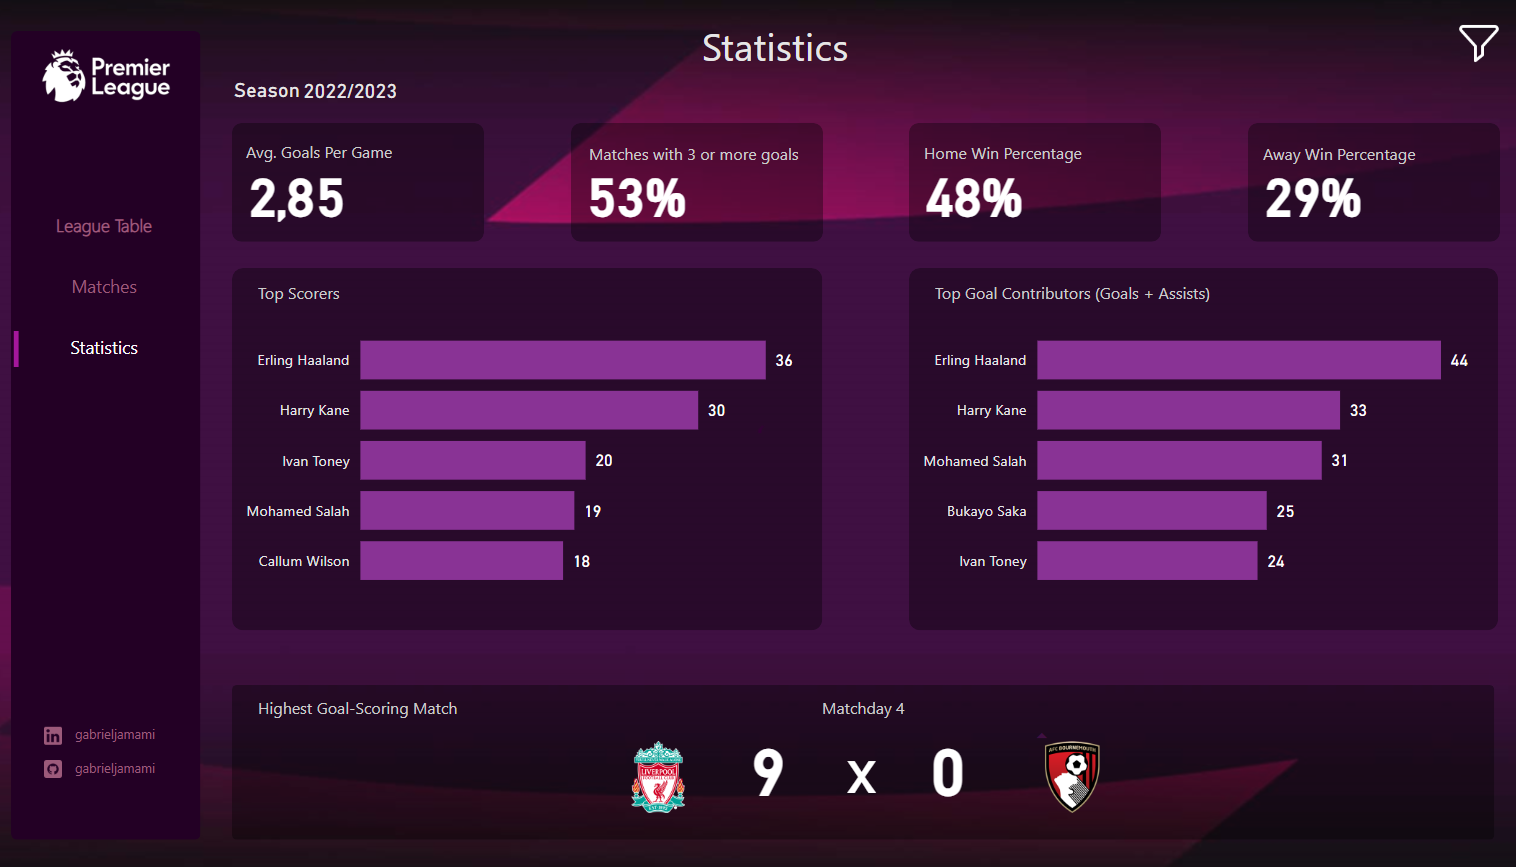

This screenshot's page, from the dashboard's own definition file:
{"tool":"powerbi","page":{"name":"Statistics","canvas":[1280,720],"ordinal":2},"visuals":[{"type":"shape","title":"Menu","box":[16,23,158,674],"z":0,"group":"g2"},{"type":"card","title":"Season","fields":{"Values":["Min(d_seasons.season_name)"]},"box":[243,55.3,112.4,37.2],"z":0,"group":"g1"},{"type":"shape","title":"Square Table","box":[200,99.6,210,99],"z":0,"group":"g6"},{"type":"shape","title":"Square Table","box":[482.1,99.6,210,99],"z":0,"group":"g9"},{"type":"shape","title":"Square Table","box":[764.2,99.6,210,99],"z":0,"group":"g7"},{"type":"shape","title":"Square Table","box":[1046.3,99.6,210,99],"z":0,"group":"g8"},{"type":"textbox","box":[10.9,169.6,165,30.8],"z":0,"group":"g5"},{"type":"textbox","box":[10.9,220.9,165,30.8],"z":0,"group":"g4"},{"type":"shape","title":"Square Table","box":[200,221,492,302],"z":0,"group":"g10"},{"type":"shape","title":"Square Table","box":[764,221,491,302],"z":0,"group":"g11"},{"type":"textbox","title":"Page 3","box":[10.9,272,165,30.8],"z":0,"group":"g3"},{"type":"shape","title":"Square Table","box":[200,568,1052,129],"z":0},{"type":"textbox","box":[63.8,594.5,103.6,31.8],"z":0,"group":"g12"},{"type":"textbox","box":[63.7,622.9,103.6,31.8],"z":0,"group":"g13"},{"type":"image","title":"Filter Img","box":[1211.5,8.2,54.4,49],"z":1000},{"type":"image","box":[25,28,140,64],"z":1000,"group":"g2"},{"type":"textbox","box":[187.7,58,83.4,37.2],"z":1000,"group":"g1"},{"type":"card","fields":{"Values":["_medidas.Media_Gols_Por_Jogo"]},"box":[161,110.6,187,94],"z":1000,"group":"g6"},{"type":"card","fields":{"Values":["_medidas.partidas com 3 gols mais"]},"box":[443.1,110.6,187,94],"z":1000,"group":"g9"},{"type":"card","fields":{"Values":["_medidas.vitorias_em_casa"]},"box":[725.2,110.6,187,94],"z":1000,"group":"g7"},{"type":"card","fields":{"Values":["_medidas.vitorias_fora"]},"box":[1007.3,110.6,187,94],"z":1000,"group":"g8"},{"type":"shape","box":[10.9,164.1,176.8,41.7],"z":1000,"group":"g5"},{"type":"shape","box":[7.1,217,176.7,41.4],"z":1000,"group":"g4"},{"type":"textbox","box":[217,228,197,28],"z":1000,"group":"g10"},{"type":"textbox","box":[781,228,355,28],"z":1000,"group":"g11"},{"type":"shape","box":[11.1,267.5,176.7,41.4],"z":1000,"group":"g3"},{"type":"image","box":[38.3,594.5,25.5,32.7],"z":1000,"group":"g12"},{"type":"image","box":[38.2,626.4,25.5,25.5],"z":1000,"group":"g13"},{"type":"textbox","title":"Title","box":[327.4,8.2,650.2,56.2],"z":2000},{"type":"textbox","box":[174,109.6,197,28],"z":2000,"group":"g6"},{"type":"textbox","box":[771.5,110.1,164,28],"z":2000,"group":"g7"},{"type":"textbox","box":[492.1,111.1,200,31],"z":2000,"group":"g9"},{"type":"textbox","box":[1054,111.1,198,28],"z":2000,"group":"g8"},{"type":"barChart","fields":{"Y":["_medidas.gols_artilheiros"],"Category":["d_players.name"]},"box":[200,252,473,252],"z":2000,"group":"g10"},{"type":"barChart","fields":{"Y":["_medidas.participacao em gols"],"Category":["d_players.name"]},"box":[764,252,472,252],"z":2000,"group":"g11"},{"type":"shape","box":[13.9,273.5,12,30],"z":2000,"group":"g3"},{"type":"shape","box":[16.4,596.3,158.2,30],"z":2000,"group":"g12"},{"type":"shape","box":[16.4,624.5,158.2,30],"z":2000,"group":"g13"},{"type":"group","id":"g1","title":"Text Table","box":[187.7,55.3,167.8,39.9],"z":3000},{"type":"group","id":"g2","title":"Menu","box":[16,23,158,674],"z":4000},{"type":"group","id":"g3","title":"Page 3","box":[10.9,267.5,176.9,41.4],"z":5000},{"type":"group","id":"g4","title":"Page 2","box":[7.1,217,176.7,41.4],"z":6000},{"type":"group","id":"g5","title":"Page 1","box":[10.9,164.1,176.8,41.7],"z":7000},{"type":"group","id":"g6","title":"avg goals","box":[161,99.6,249,105],"z":8000},{"type":"group","id":"g7","title":"avg goals","box":[725.2,99.6,249,105],"z":9000},{"type":"group","id":"g8","title":"avg goals","box":[1007.3,99.6,249,105],"z":10000},{"type":"group","id":"g9","title":"avg goals","box":[443.1,99.6,249,105],"z":11000},{"type":"group","id":"g10","title":"Grupo 1","box":[200,221,492,302],"z":12000},{"type":"group","id":"g11","title":"Grupo 1","box":[764,221,491,302],"z":13000},{"type":"card","fields":{"Values":["_medidas.Partida_Maior_Margem"]},"box":[602,590,90,90],"z":14000},{"type":"card","fields":{"Values":["_medidas.Goleada Gols Fora"]},"box":[752,590,90,90],"z":16000},{"type":"tableEx","fields":{"Values":["_medidas.Goleada Time Fora"]},"box":[859,585,85,120],"z":17000},{"type":"tableEx","fields":{"Values":["_medidas.Goleada Time Casa"]},"box":[514,585,85,120],"z":18000},{"type":"textbox","box":[689,604,71,82],"z":19000},{"type":"textbox","box":[674,573,104,34],"z":20000},{"type":"textbox","box":[217,573,193,34],"z":21000},{"type":"group","id":"g12","title":"Linkedin","box":[16.4,594.5,158.2,32.7],"z":22000},{"type":"group","id":"g13","title":"Github","box":[16.4,622.9,158.2,31.8],"z":23000}]}

Visuals, with their boxes in screenshot pixels (x1, y1, x2, y2), scaled from the page's 1280x720 canvas onto the 1516x867 screenshot:
"Menu" shape: <box>19,28,206,839</box>
"Season" card: <box>288,67,421,111</box>
"Square Table" shape: <box>237,120,486,239</box>
"Square Table" shape: <box>571,120,820,239</box>
"Square Table" shape: <box>905,120,1154,239</box>
"Square Table" shape: <box>1239,120,1488,239</box>
textbox: <box>13,204,208,241</box>
textbox: <box>13,266,208,303</box>
"Square Table" shape: <box>237,266,820,630</box>
"Square Table" shape: <box>905,266,1486,630</box>
"Page 3" textbox: <box>13,328,208,365</box>
"Square Table" shape: <box>237,684,1483,839</box>
textbox: <box>76,716,198,754</box>
textbox: <box>75,750,198,788</box>
"Filter Img" image: <box>1435,10,1499,69</box>
image: <box>30,34,195,111</box>
textbox: <box>222,70,321,115</box>
card - _medidas.Media_Gols_Por_Jogo: <box>191,133,412,246</box>
card - _medidas.partidas com 3 gols mais: <box>525,133,746,246</box>
card - _medidas.vitorias_em_casa: <box>859,133,1080,246</box>
card - _medidas.vitorias_fora: <box>1193,133,1414,246</box>
shape: <box>13,198,222,248</box>
shape: <box>8,261,218,311</box>
textbox: <box>257,275,490,308</box>
textbox: <box>925,275,1345,308</box>
shape: <box>13,322,222,372</box>
image: <box>45,716,76,755</box>
image: <box>45,754,75,785</box>
"Title" textbox: <box>388,10,1158,78</box>
textbox: <box>206,132,439,166</box>
textbox: <box>914,133,1108,166</box>
textbox: <box>583,134,820,171</box>
textbox: <box>1248,134,1483,167</box>
barChart - _medidas.gols_artilheiros x d_players.name: <box>237,303,797,607</box>
barChart - _medidas.participacao em gols x d_players.name: <box>905,303,1464,607</box>
shape: <box>16,329,31,365</box>
shape: <box>19,718,207,754</box>
shape: <box>19,752,207,788</box>
"Text Table" group: <box>222,67,421,115</box>
"Menu" group: <box>19,28,206,839</box>
"Page 3" group: <box>13,322,222,372</box>
"Page 2" group: <box>8,261,218,311</box>
"Page 1" group: <box>13,198,222,248</box>
"avg goals" group: <box>191,120,486,246</box>
"avg goals" group: <box>859,120,1154,246</box>
"avg goals" group: <box>1193,120,1488,246</box>
"avg goals" group: <box>525,120,820,246</box>
"Grupo 1" group: <box>237,266,820,630</box>
"Grupo 1" group: <box>905,266,1486,630</box>
card - _medidas.Partida_Maior_Margem: <box>713,710,820,819</box>
card - _medidas.Goleada Gols Fora: <box>891,710,997,819</box>
tableEx - _medidas.Goleada Time Fora: <box>1017,704,1118,849</box>
tableEx - _medidas.Goleada Time Casa: <box>609,704,709,849</box>
textbox: <box>816,727,900,826</box>
textbox: <box>798,690,921,731</box>
textbox: <box>257,690,486,731</box>
"Linkedin" group: <box>19,716,207,755</box>
"Github" group: <box>19,750,207,788</box>
